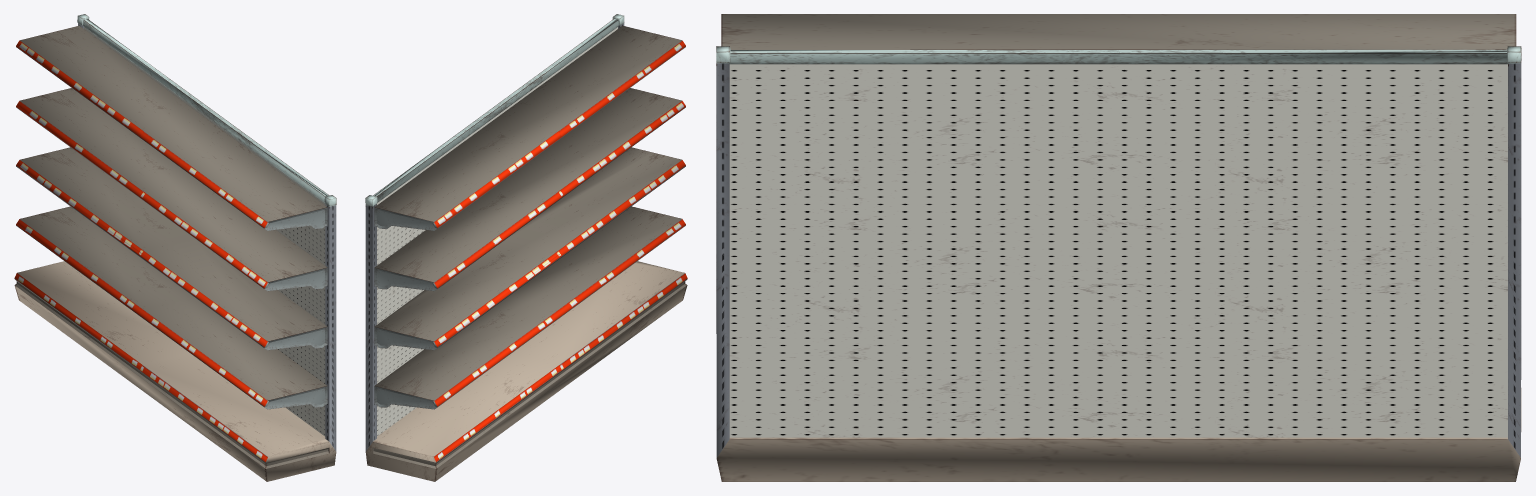
Rendered from GondolaGrande.fbx.
The picture shows the model from 3 angles, left to right: view 1: azimuth 30°, elevation 25°; view 2: azimuth 150°, elevation 25°; view 3: azimuth 270°, elevation 25°; orthographic projection. The views are drawn at different scales.
Parts seen in each view (by area): view 1: shelf_piece_exp022; view 2: shelf_piece_exp022; view 3: shelf_piece_exp022.
Part boxes in pixels (x1,y1,x2,y2): shelf_piece_exp022: (14,14,336,481); shelf_piece_exp022: (365,14,687,481); shelf_piece_exp022: (716,14,1521,481).
Size of the model in its own units: 47.8 by 173 by 293.
4 materials, 4 textured.
